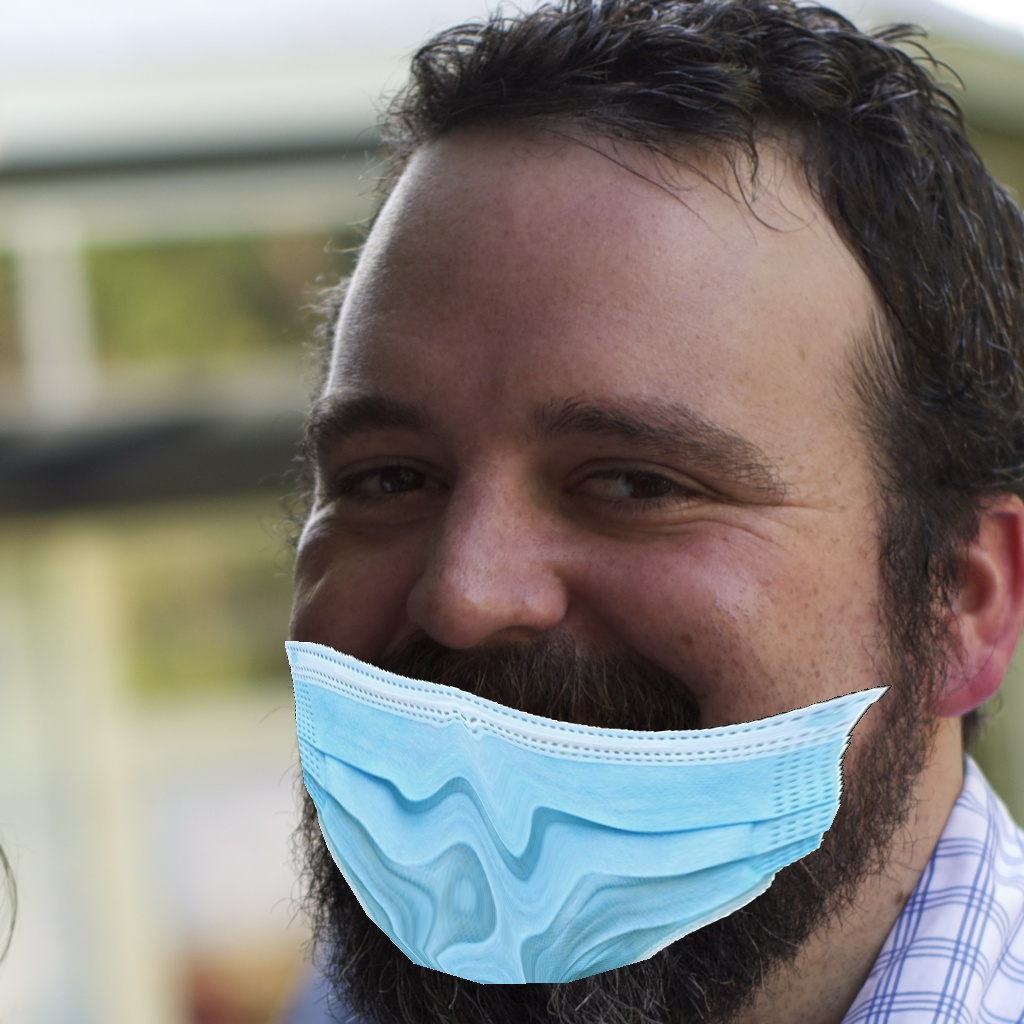mascarilla_mal_puesta: (212, 313, 912, 1005)
